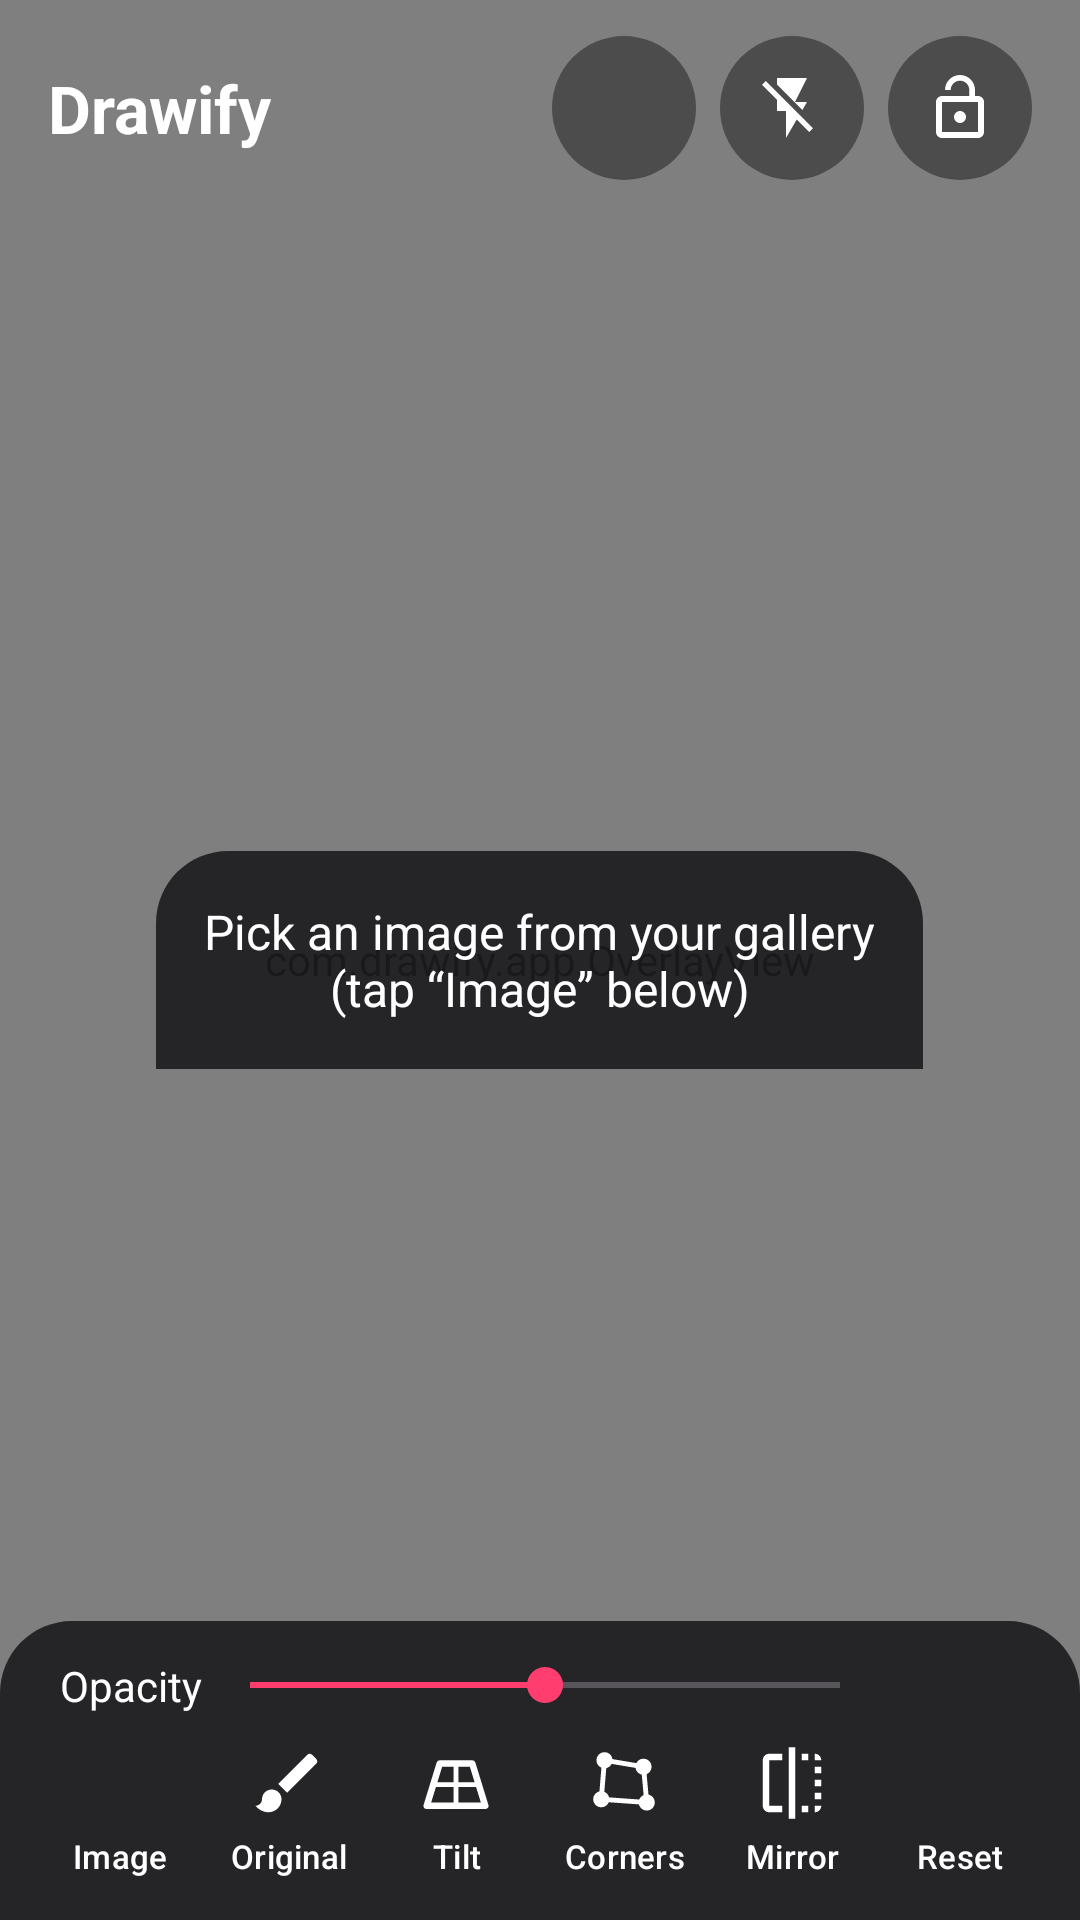

Where icons sit on this 1080 x 1920 app screen, as bbox(x1, y1, x2, y2):
Flashlight: bbox(720, 36, 864, 180)
Lock: bbox(888, 36, 1032, 180)
